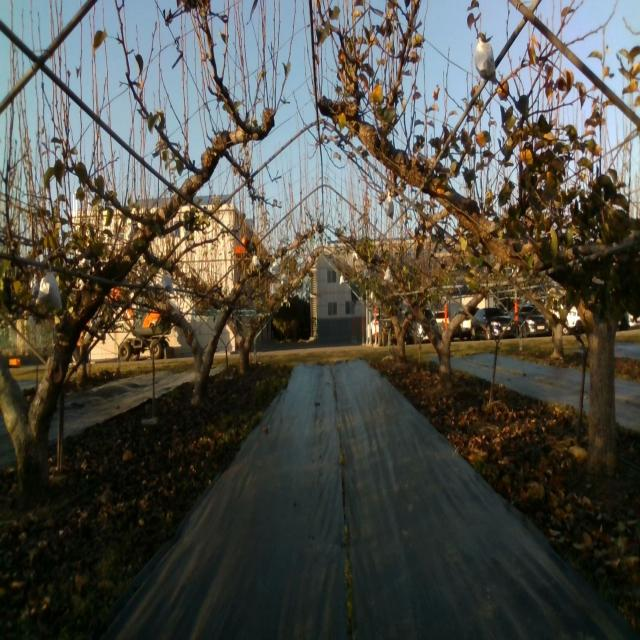pearbags: (474, 36, 498, 88), (36, 272, 63, 310), (162, 274, 174, 296)
